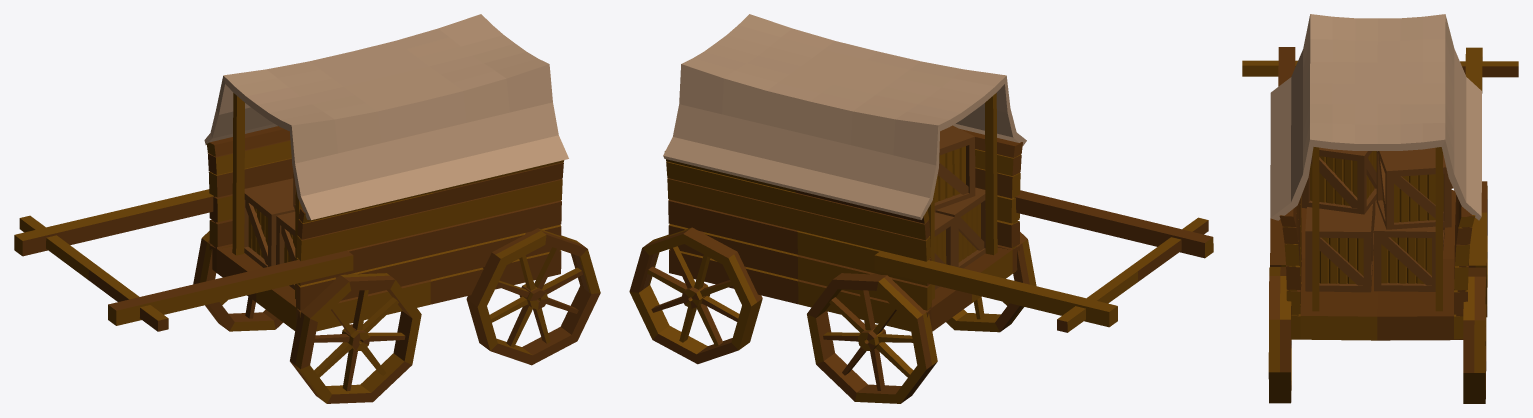
File: cart.fbx
3 renders of one model, left to right at view 1: azimuth 30°, elevation 25°; view 2: azimuth 150°, elevation 25°; view 3: azimuth 270°, elevation 25°, orthographic.
Visible parts, largest first — view 1: cart_export; view 2: cart_export; view 3: cart_export.
Boxes of the visible parts, x1,y1,x2,y2 form: cart_export: [14, 14, 600, 403]; cart_export: [629, 14, 1213, 403]; cart_export: [1242, 14, 1518, 403].
Bounding box in the file's own units: 2700 × 2961 × 5354.
